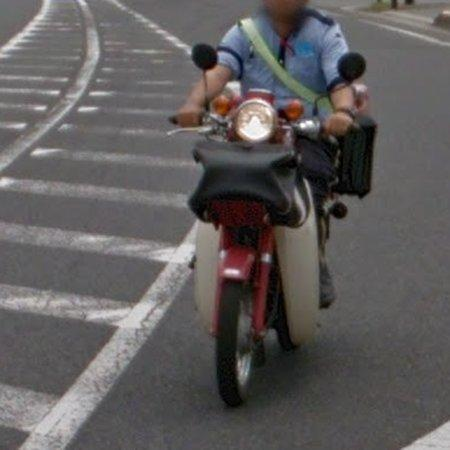motorcycles: (189, 91, 329, 408)
